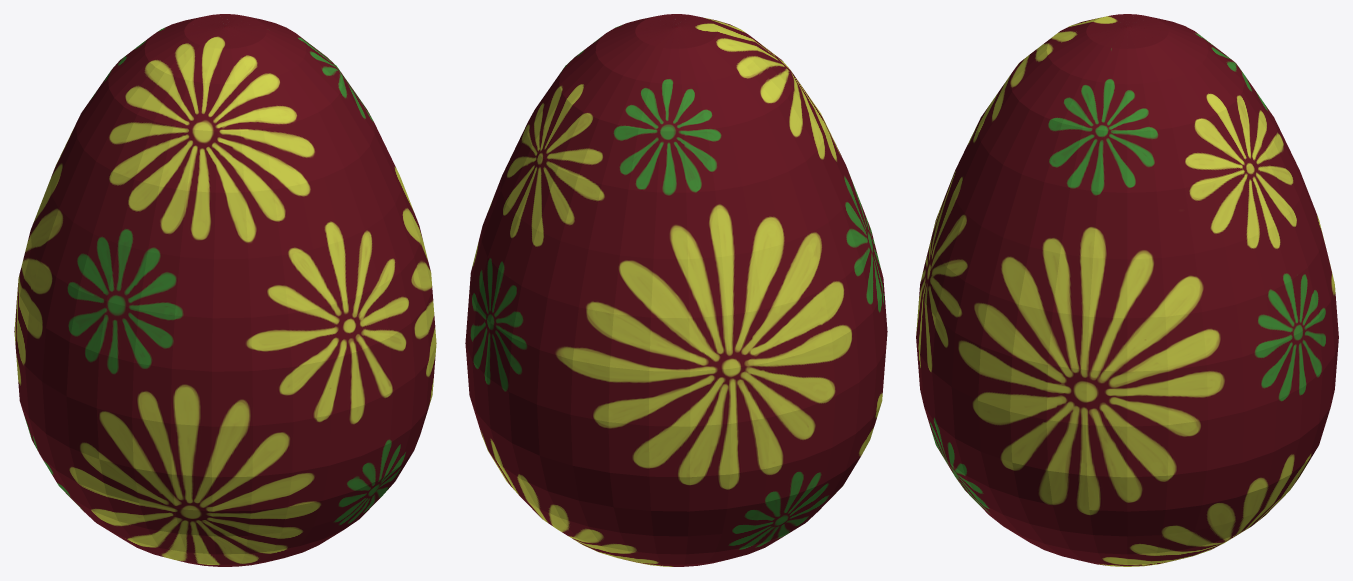
The model's file is egg.glb.
The picture shows the model from 3 angles, left to right: view 1: azimuth 30°, elevation 25°; view 2: azimuth 150°, elevation 25°; view 3: azimuth 270°, elevation 25°; orthographic projection.
Visible parts, largest first — view 1: Sphere; view 2: Sphere; view 3: Sphere.
Boxes of the visible parts, box(x1,y1,x2,y2) form: Sphere: box(14, 14, 436, 566); Sphere: box(465, 14, 887, 566); Sphere: box(916, 14, 1338, 566).
Bounding box in the file's own units: 2 × 2.72 × 2.
1 material, 1 textured.
